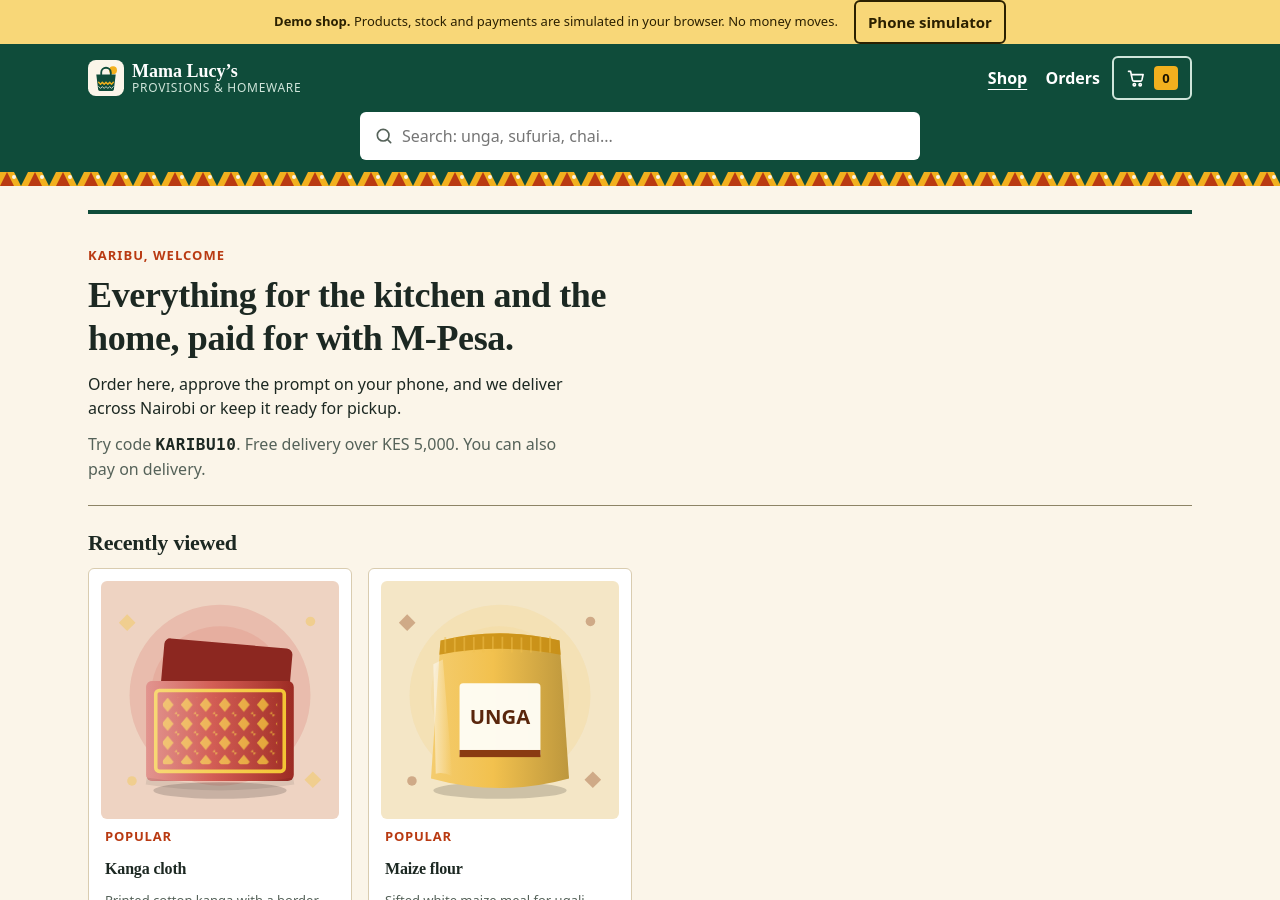
Scenario: cart drawer › opens as a labelled dialog, empty at first, and returns focus on close
This screenshot has width=1280, height=900.
Click the button named "Cart,". click: (1152, 78)
box: left=1112, top=56, right=1192, bottom=100
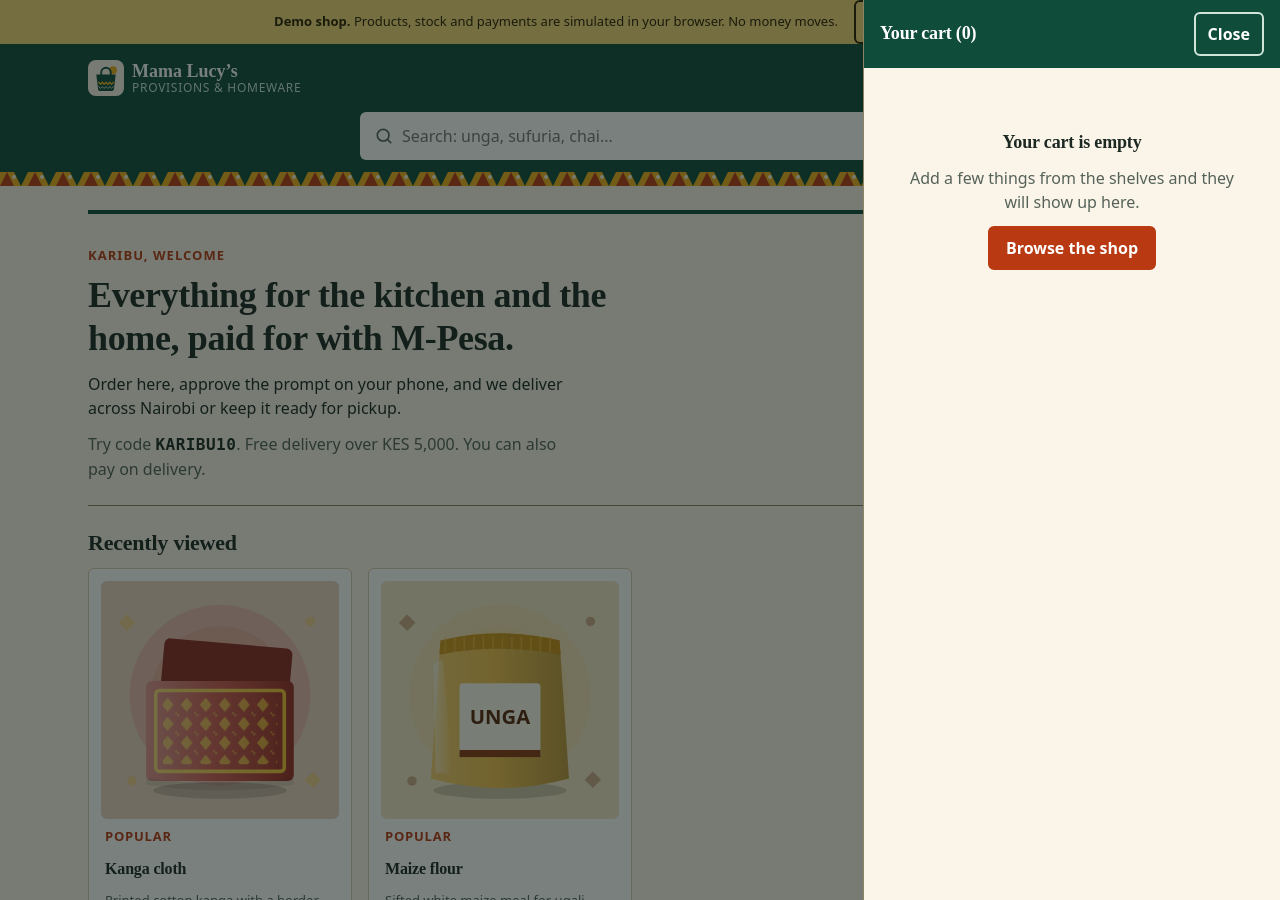
expect the heading "Your cart is empty" is shown: met, box left=1002, top=132, right=1141, bottom=152
Click the button "Close". click: (1229, 34)
box: left=1194, top=12, right=1264, bottom=56
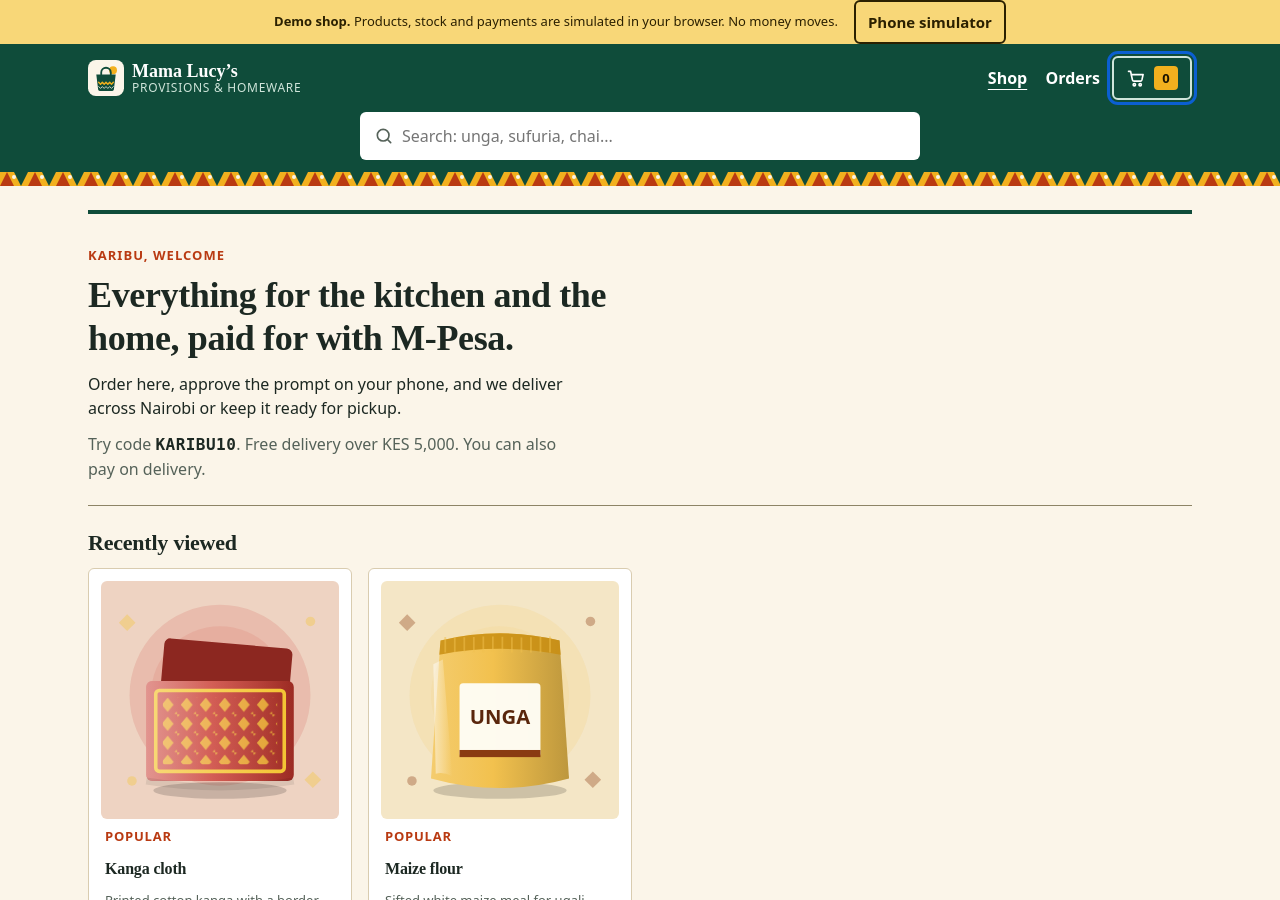
expect the dialog is gone: met
